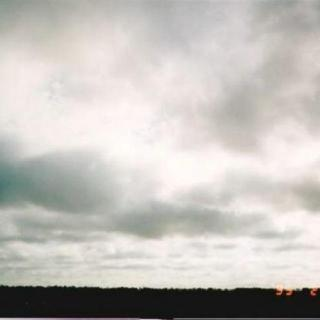Stratus: (0, 1, 320, 289)
